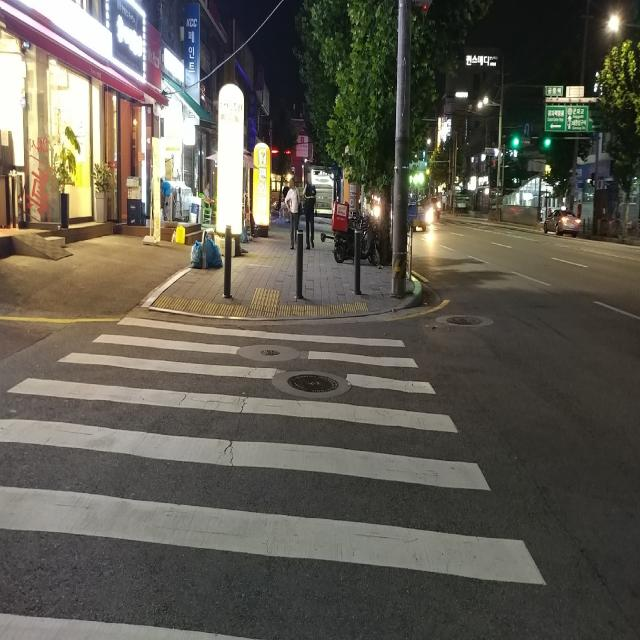횡단보도: (0, 315, 548, 639)
